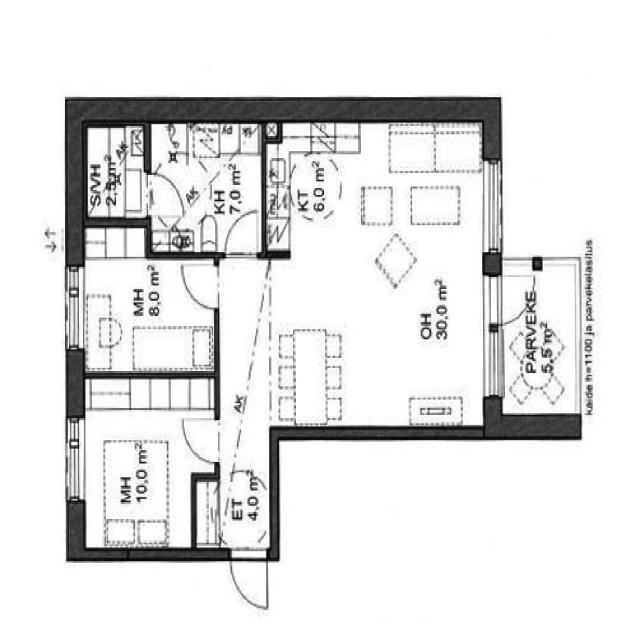door: (72, 374, 213, 552), (498, 262, 536, 330), (179, 259, 222, 314), (220, 206, 262, 261), (143, 170, 185, 218)
window: (480, 151, 507, 262), (61, 414, 88, 511), (62, 264, 86, 354), (484, 322, 504, 402)
zone: (252, 116, 498, 443), (76, 236, 218, 378), (146, 121, 264, 254), (85, 122, 147, 224), (226, 547, 272, 616), (180, 412, 226, 471)
